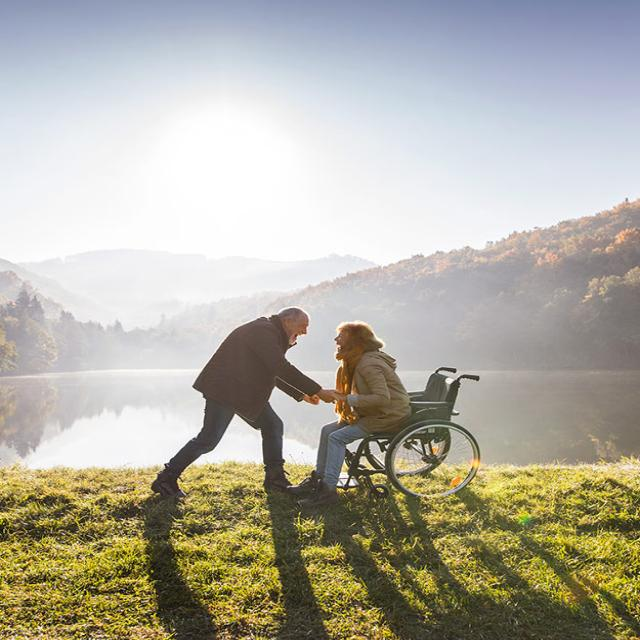wheelchairs: (322, 367, 506, 499)
